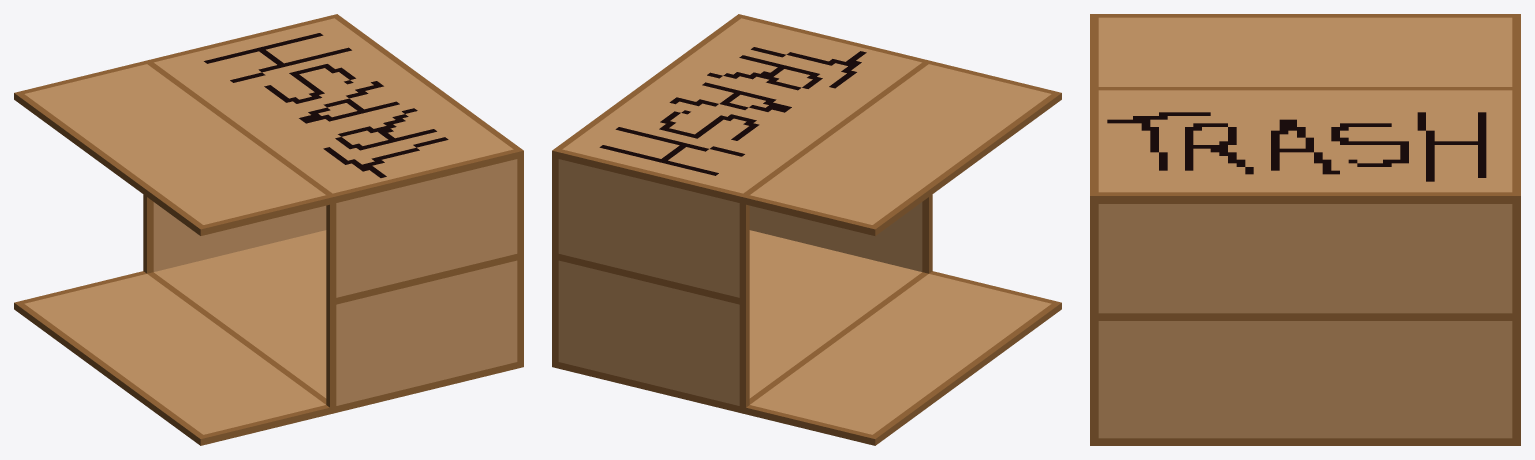
The model's file is boxTrash.obj.
3 renders of one model, left to right at view 1: azimuth 30°, elevation 25°; view 2: azimuth 150°, elevation 25°; view 3: azimuth 270°, elevation 25°, orthographic. The views are drawn at different scales.
Size of the model in its own units: 50 by 32 by 50.
Materials: 1 (1 with a texture image).
